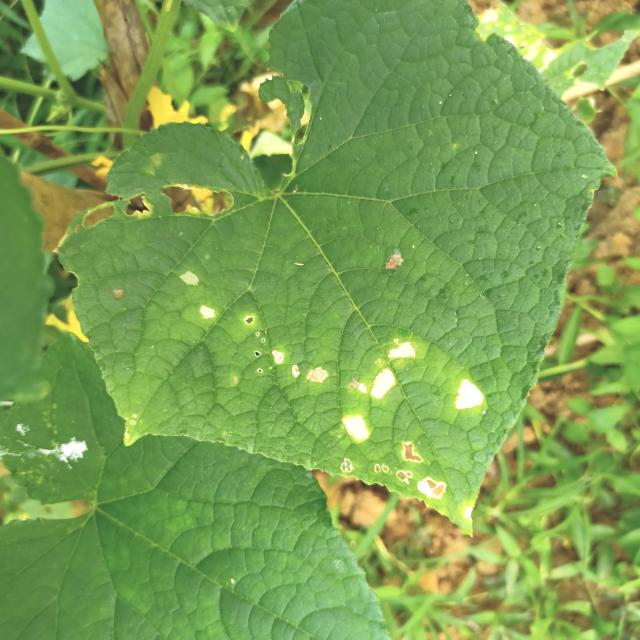disease_cucumber: (162, 256, 484, 527)
